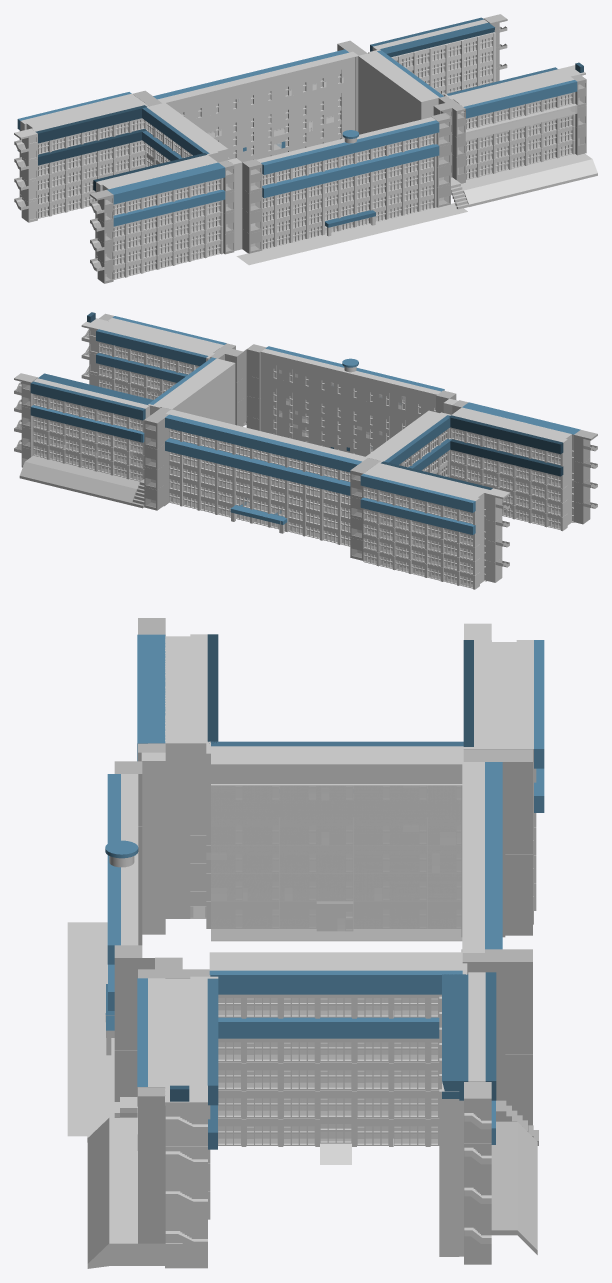
File: 공대 모델링.fbx
3 renders of one model, top to bottom at view 1: azimuth 30°, elevation 25°; view 2: azimuth 150°, elevation 25°; view 3: azimuth 270°, elevation 25°, orthographic. The views are drawn at different scales.
Parts seen in each view (by area): view 1: polySurface208, polySurface67, polySurface261, polySurface81, polySurface225, polySurface228, polySurface177, polySurface305, polySurface78, pPlane1, polySurface142, polySurface215 (+7 smaller); view 2: polySurface208, polySurface261, polySurface67, polySurface215, polySurface142, polySurface228, polySurface177, polySurface296, polySurface78, polySurface220, polySurface38, polySurface226 (+5 smaller); view 3: polySurface177, polySurface228, polySurface208, polySurface142, pPlane1, polySurface261, polySurface215, polySurface260, polySurface296, polySurface226, polySurface67, polySurface78 (+6 smaller).
Boxes of the visible parts, x1,y1,x2,y2 form: polySurface208: (370,17,597,206); polySurface67: (256,117,439,249); polySurface261: (153,49,358,162); polySurface81: (107,162,225,279); polySurface225: (31,101,149,218); polySurface228: (358,49,443,134); polySurface177: (142,102,229,166); polySurface305: (218,159,262,254); polySurface78: (431,96,465,207); pPlane1: (236,203,467,265); polySurface142: (93,153,217,274); polySurface215: (17,92,142,213); polySurface208: (19,316,246,505); polySurface261: (165,409,367,546); polySurface67: (260,346,444,456); polySurface215: (360,466,484,589); polySurface142: (449,407,571,531); polySurface228: (148,357,235,424); polySurface177: (366,410,451,477); polySurface296: (144,407,174,510); polySurface78: (210,343,266,430); polySurface220: (486,488,510,582); polySurface38: (574,430,597,524); polySurface226: (350,458,380,560); polySurface177: (206,741,463,941); polySurface228: (209,952,467,1164); polySurface208: (87,972,537,1268); polySurface142: (165,634,218,918); pPlane1: (67,922,114,1136); polySurface261: (462,762,502,952); polySurface215: (491,640,544,924); polySurface260: (165,1085,207,1268); polySurface296: (461,949,532,1131); polySurface226: (461,749,532,937); polySurface67: (105,774,138,1055); polySurface78: (114,945,210,1117).
Size of the model in its own units: 118 by 22.56 by 49.05.
